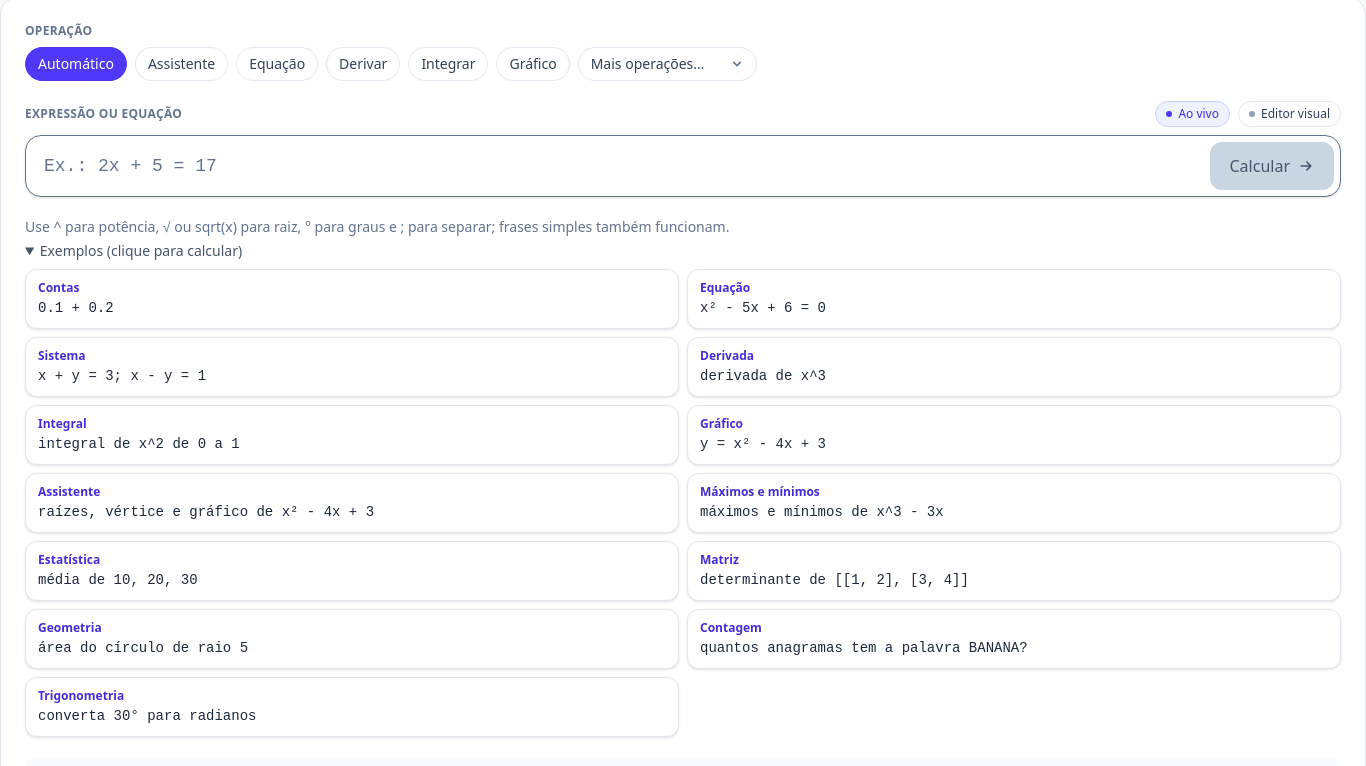
Calculator › shows the decimal approximation
Type "0.1 + 0.2" into the field labelled "Expressão ou equação" at (617, 166), box [32, 142, 1202, 190]
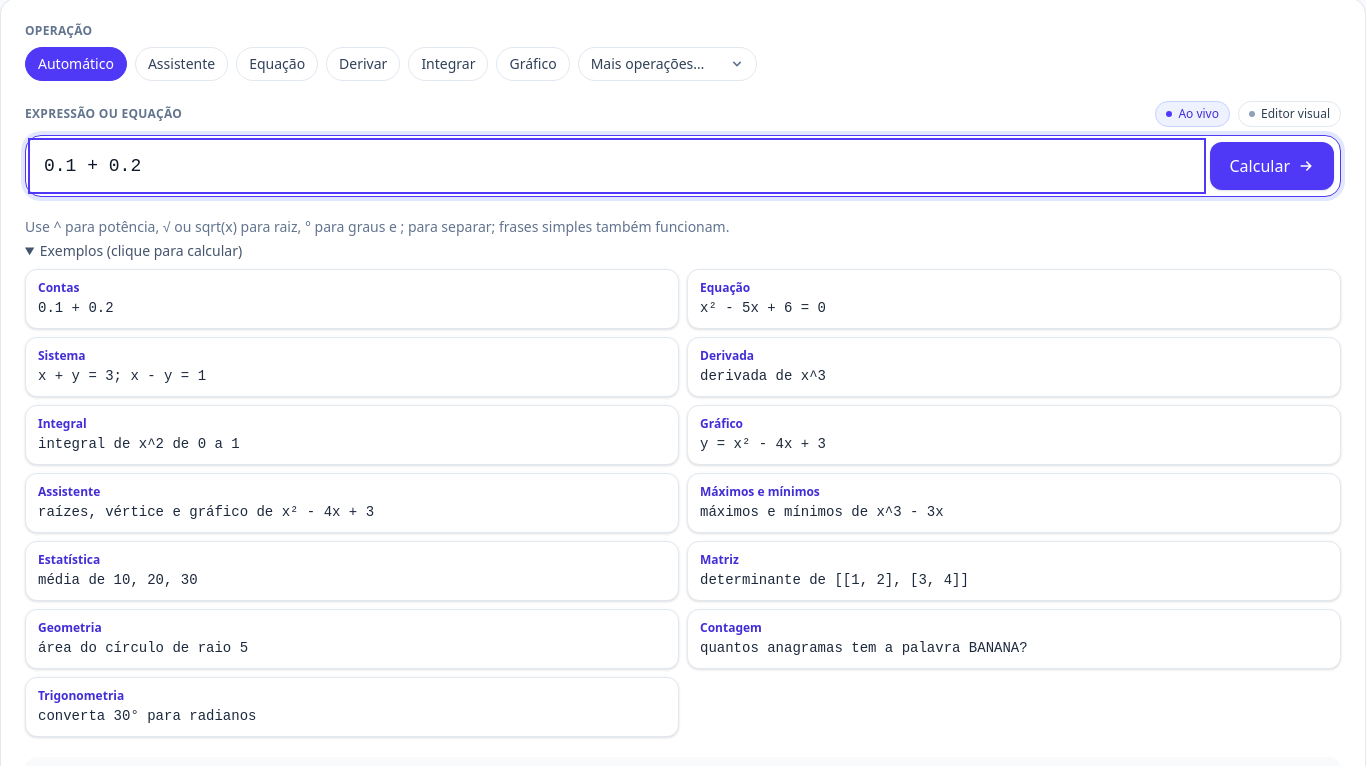
Click the button "Calcular" at (1272, 166), box [1210, 142, 1334, 190]
(page scrolled)
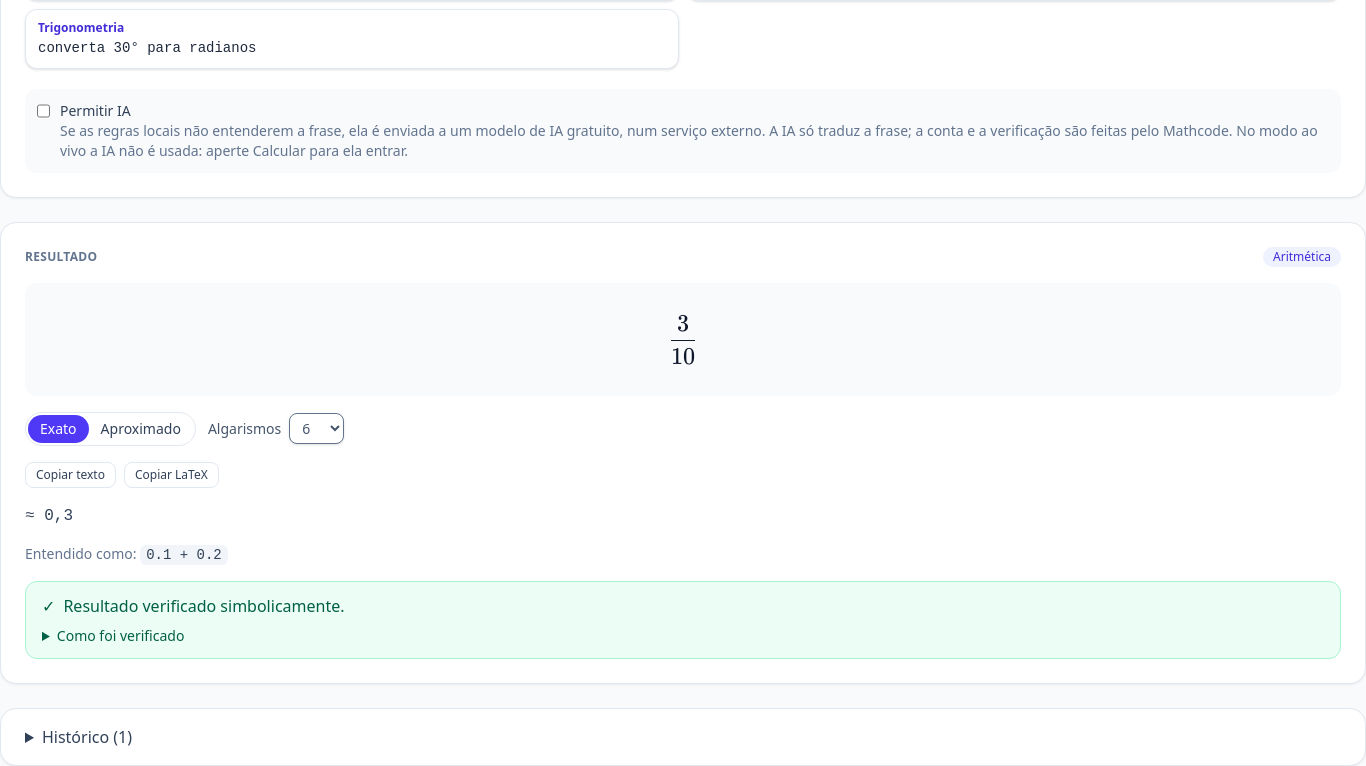
Result: the text "0,3" is shown at [44, 507, 73, 525]
Result: the text "Resultado verificado simbolicamente." is shown at [63, 595, 344, 617]
